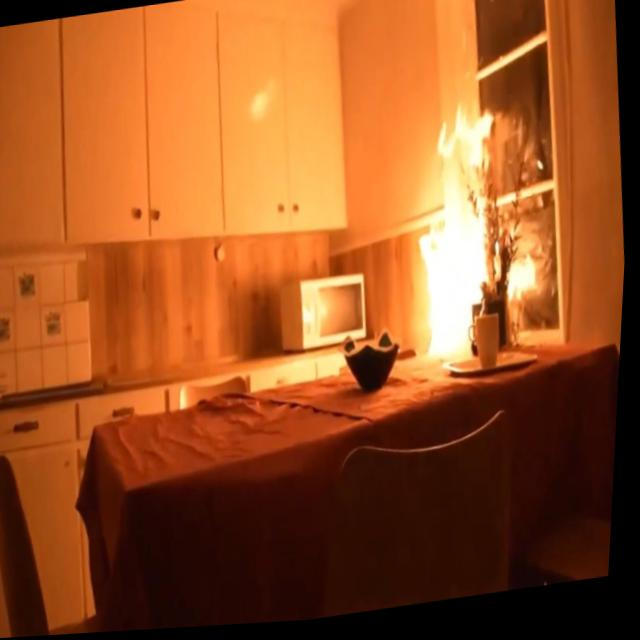fire: (399, 108, 506, 364), (496, 245, 503, 260)
